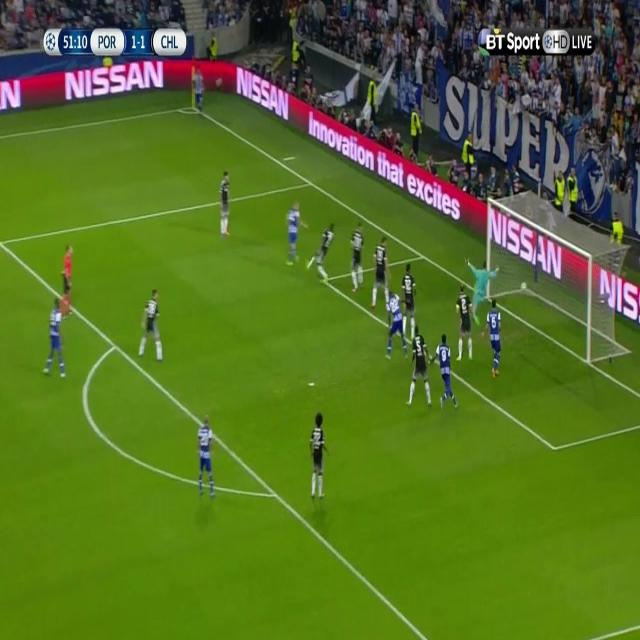Ball: (520, 279, 530, 294)
Goalkeeper: (465, 254, 503, 322)
Player: (429, 334, 462, 415), (403, 323, 432, 411), (136, 287, 166, 364), (39, 296, 66, 381), (309, 409, 331, 504), (306, 223, 339, 284), (480, 298, 503, 380), (454, 283, 476, 366), (284, 200, 310, 269), (370, 235, 392, 310), (384, 291, 406, 364), (197, 416, 215, 504), (401, 261, 419, 343), (348, 222, 364, 298), (218, 169, 232, 243), (191, 60, 205, 118)
Referee: (60, 239, 76, 321)
